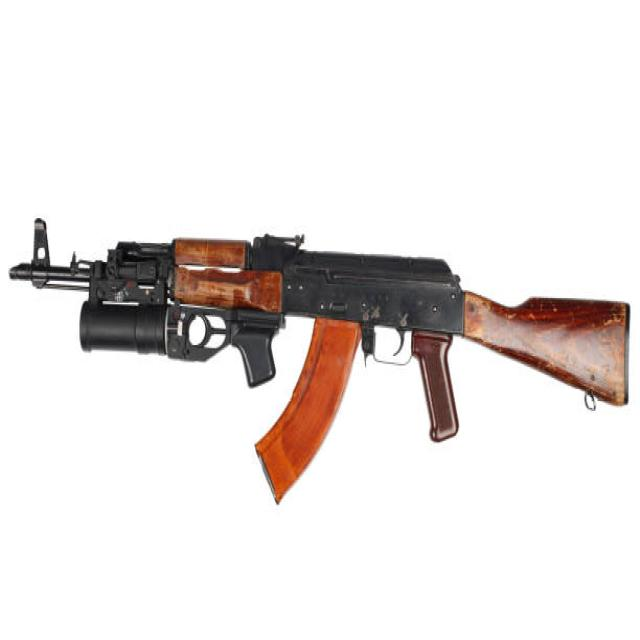rifle: (4, 210, 640, 517)
